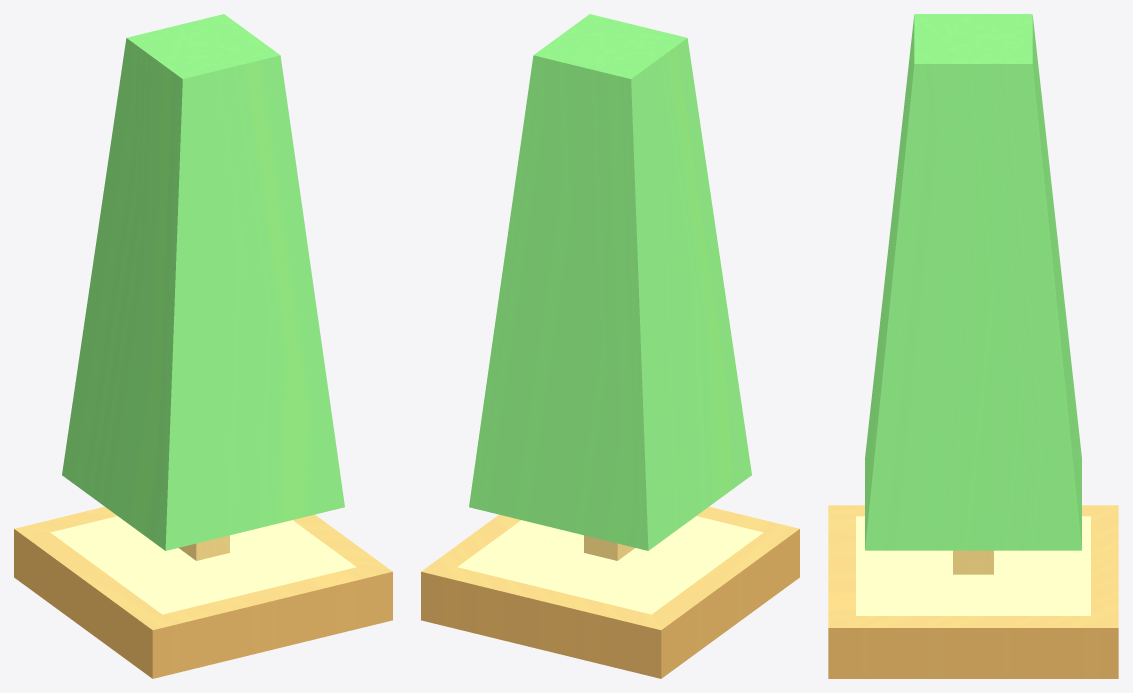
The model's file is trees.002.glb.
3 views of the same model, side by side, from view 1: azimuth 30°, elevation 25°; view 2: azimuth 150°, elevation 25°; view 3: azimuth 270°, elevation 25° (orthographic). The views are drawn at different scales.
Visible parts, largest first — view 1: trees.002(Clone); view 2: trees.002(Clone); view 3: trees.002(Clone).
Boxes of the visible parts, left/top/right/bottom form: trees.002(Clone): left=14, top=14, right=392, bottom=678; trees.002(Clone): left=421, top=14, right=799, bottom=678; trees.002(Clone): left=828, top=14, right=1118, bottom=678.
Bounding box in the file's own units: 1.06 × 2.32 × 1.06.
1 material, 1 textured.
